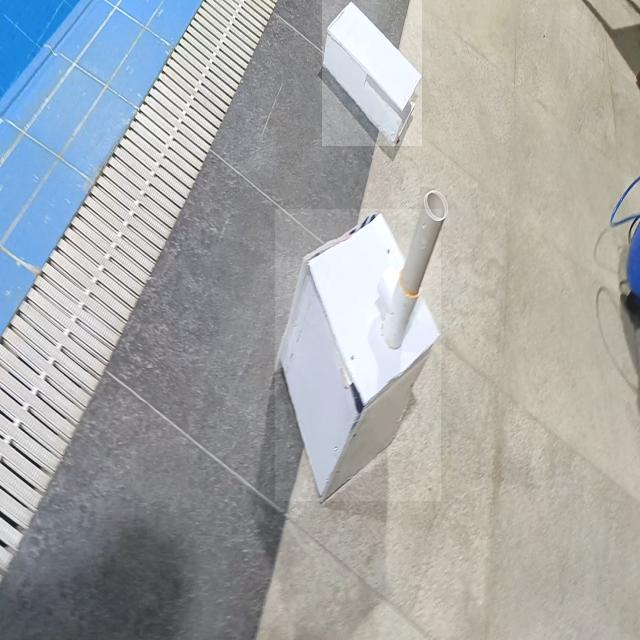Cube: (275, 209, 441, 501)
Cuboid: (322, 0, 422, 146)
